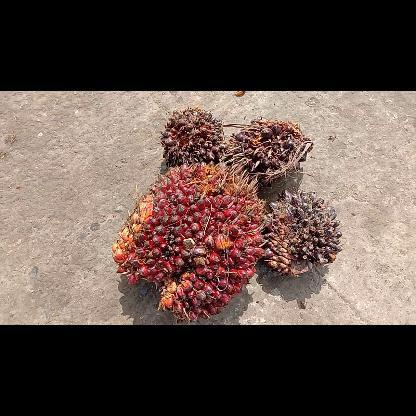TBS abnormal: (261, 188, 343, 278), (224, 116, 314, 184), (159, 104, 225, 168)
TBS masak: (109, 160, 265, 322)
